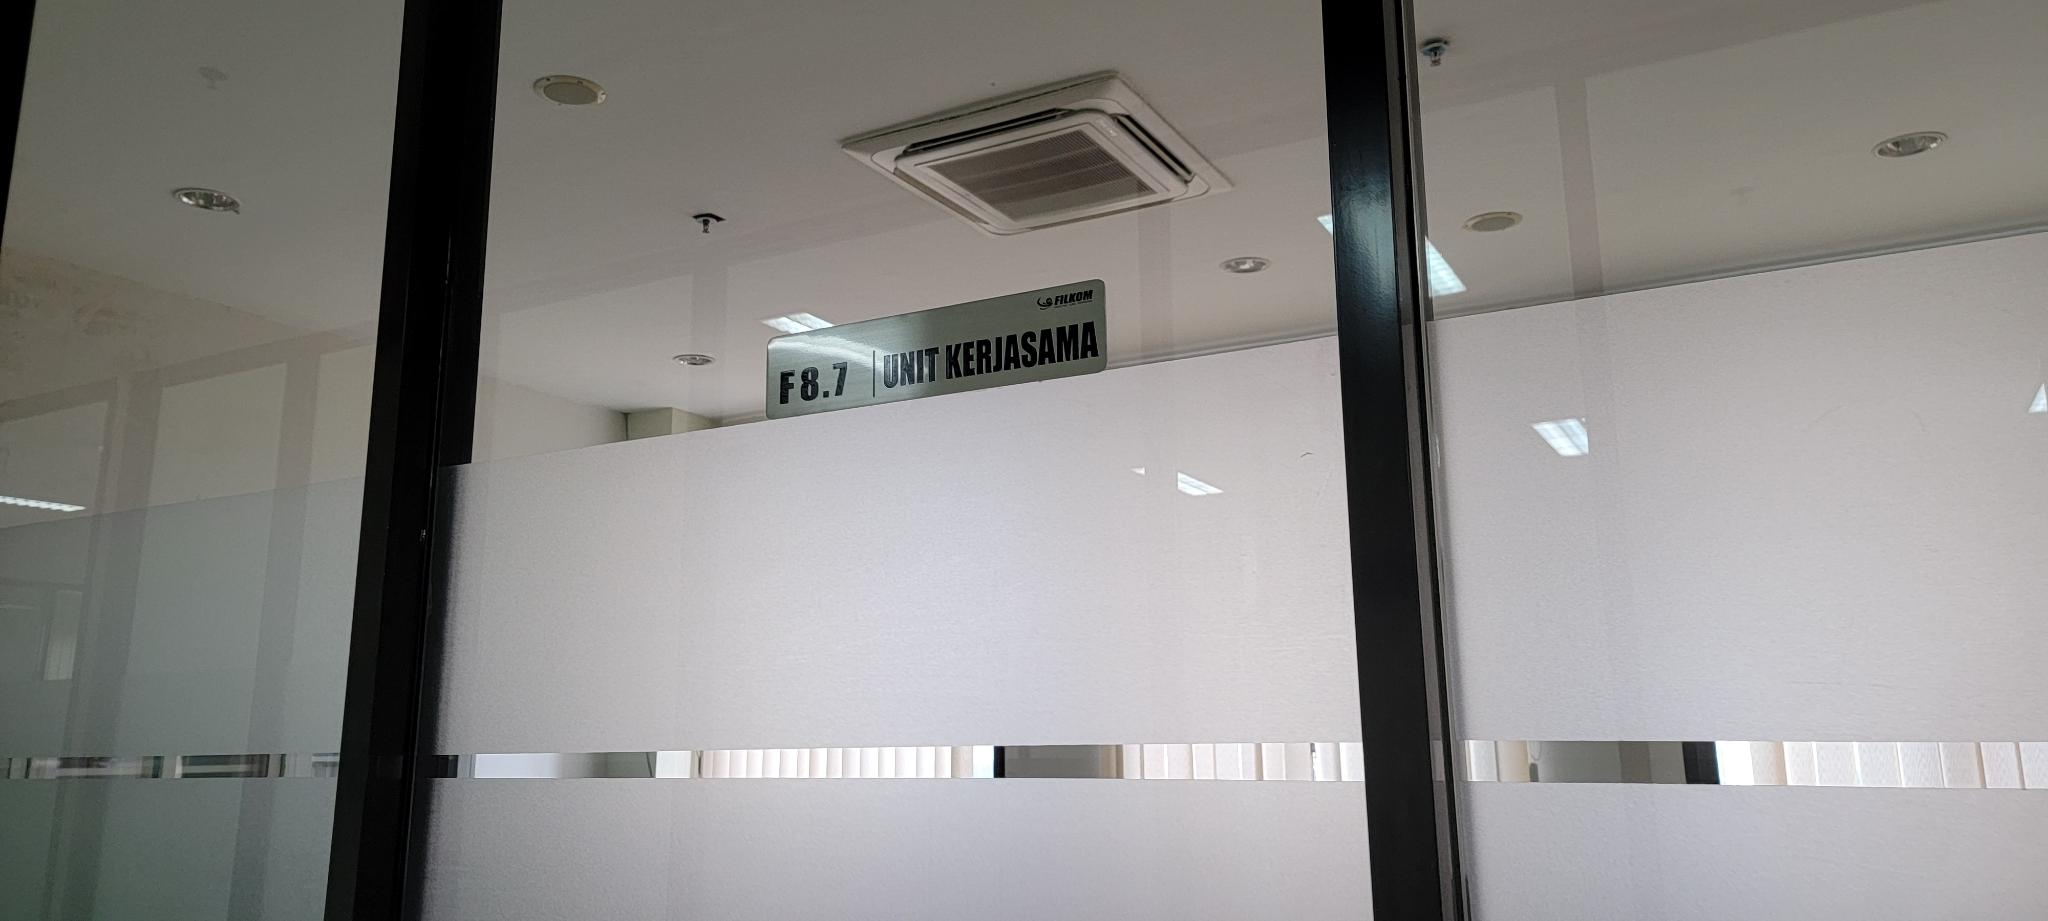plate: (765, 282, 1106, 421)
